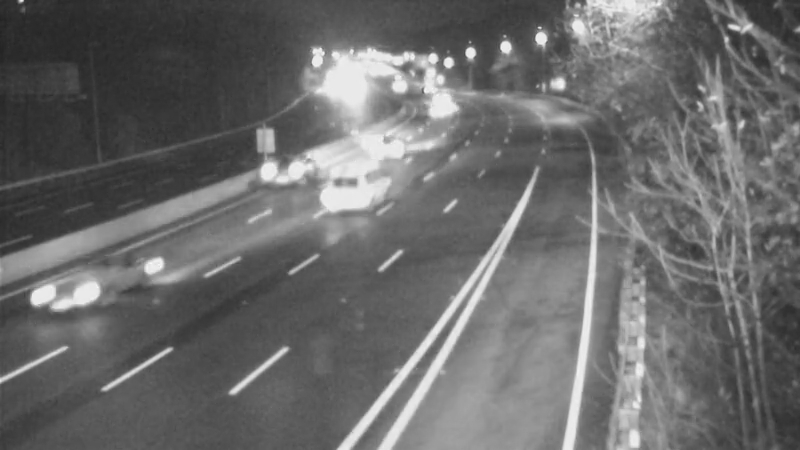vehicle: (235, 131, 315, 211), (306, 156, 386, 236), (29, 254, 109, 334), (413, 85, 463, 135), (346, 115, 396, 165), (369, 118, 419, 168)
